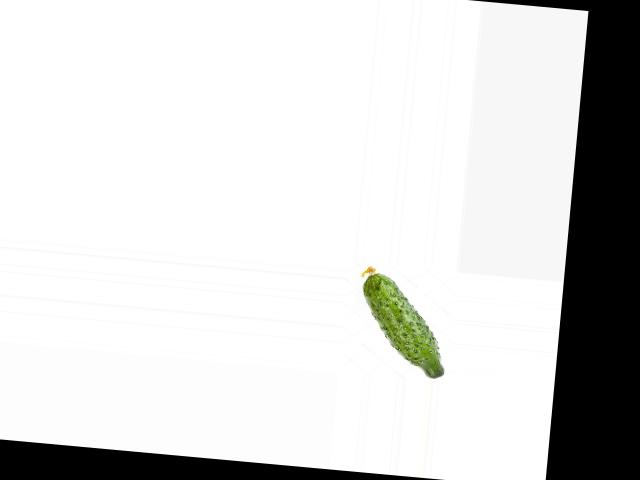cucumber: (353, 265, 453, 378)
